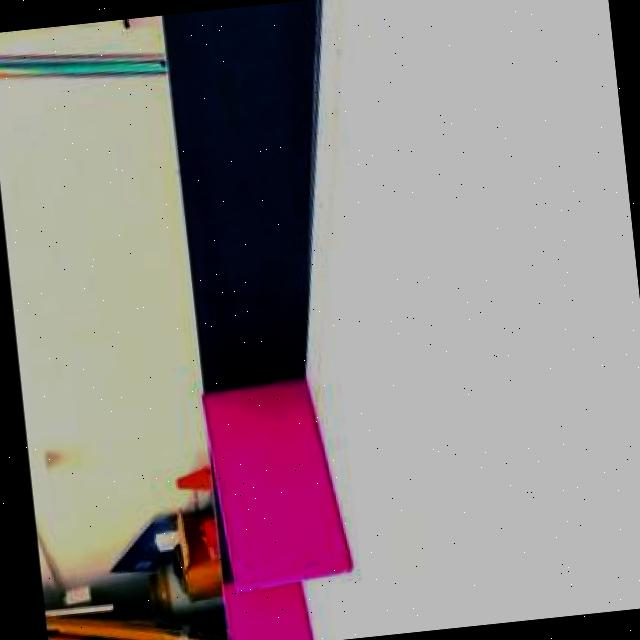xparking: (215, 379, 332, 586), (226, 589, 306, 640)
